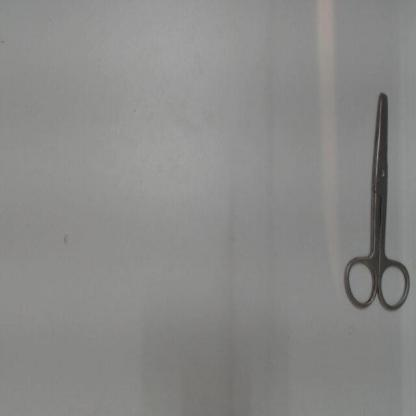Dressing Scissors: (337, 81, 414, 320)
